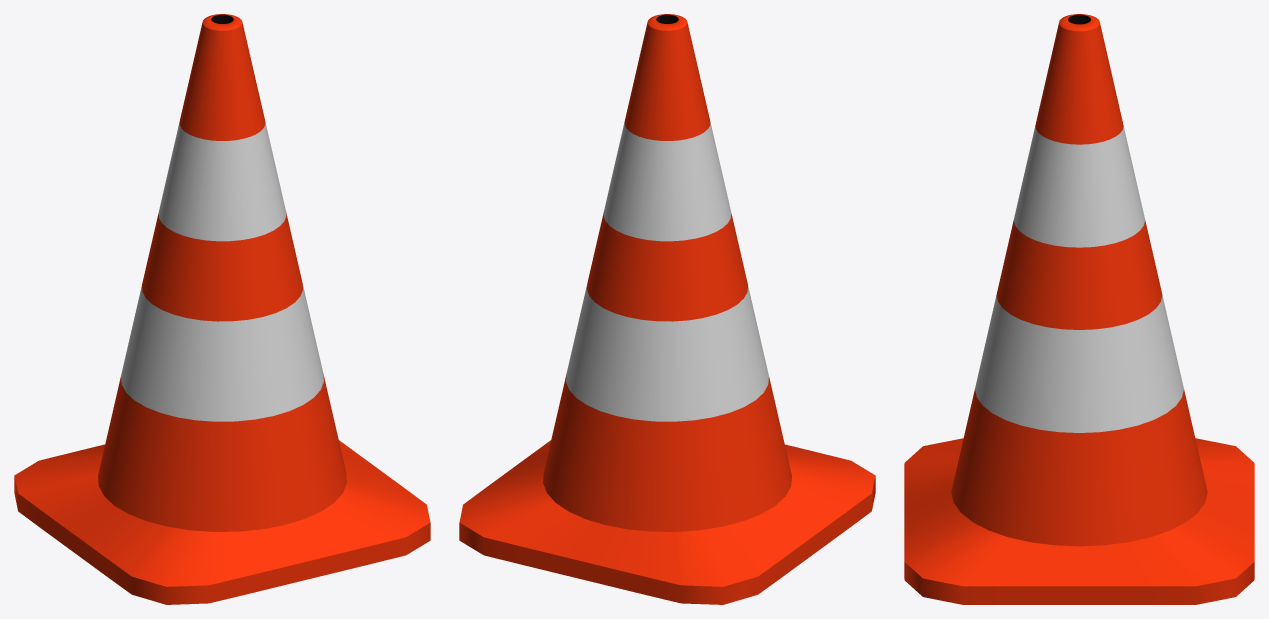
3 renders of one model, left to right at view 1: azimuth 30°, elevation 25°; view 2: azimuth 150°, elevation 25°; view 3: azimuth 270°, elevation 25°, orthographic. The views are drawn at different scales.
Visible parts, largest first — view 1: cone; view 2: cone; view 3: cone.
Boxes of the visible parts, <box> form: cone: <box>14,14,430,604</box>; cone: <box>459,14,875,604</box>; cone: <box>904,14,1254,604</box>.
Size of the model in its own units: 0.41 by 0.41 by 0.66.
